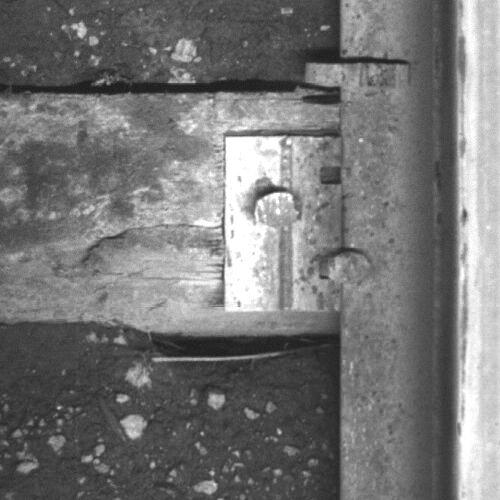crutch: (302, 56, 411, 89)
do: (224, 135, 375, 311)
hole_do: (312, 155, 353, 194)
rail: (454, 1, 500, 500)
tie_wood: (1, 89, 339, 332)
